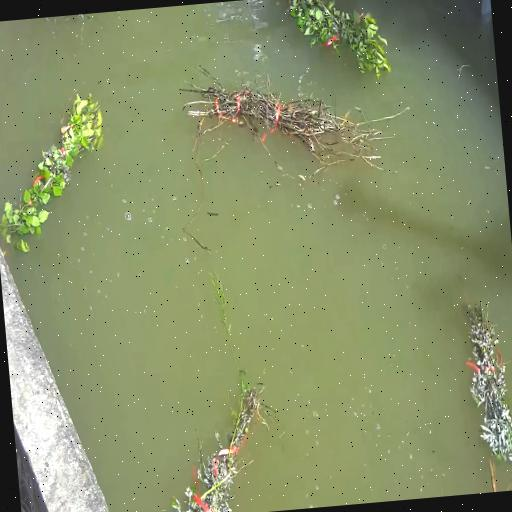twig: (182, 84, 405, 169), (173, 338, 269, 512), (0, 94, 103, 243), (289, 0, 391, 77), (466, 303, 512, 461), (211, 275, 231, 337)
